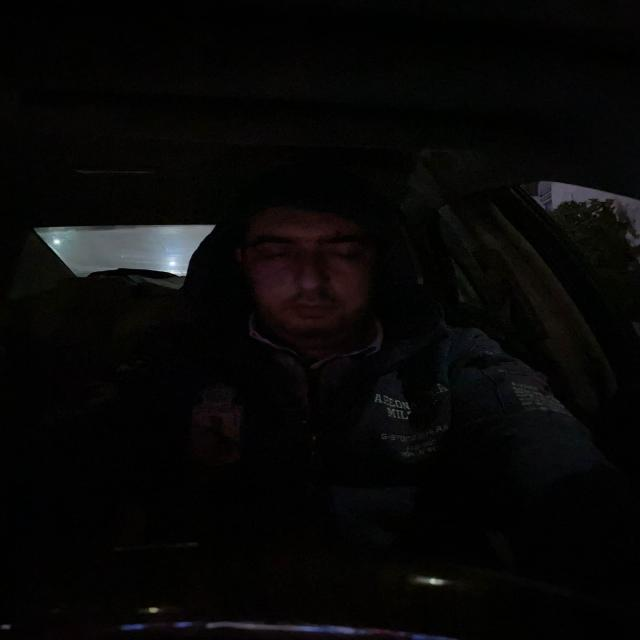drowsy: (218, 176, 404, 349)
